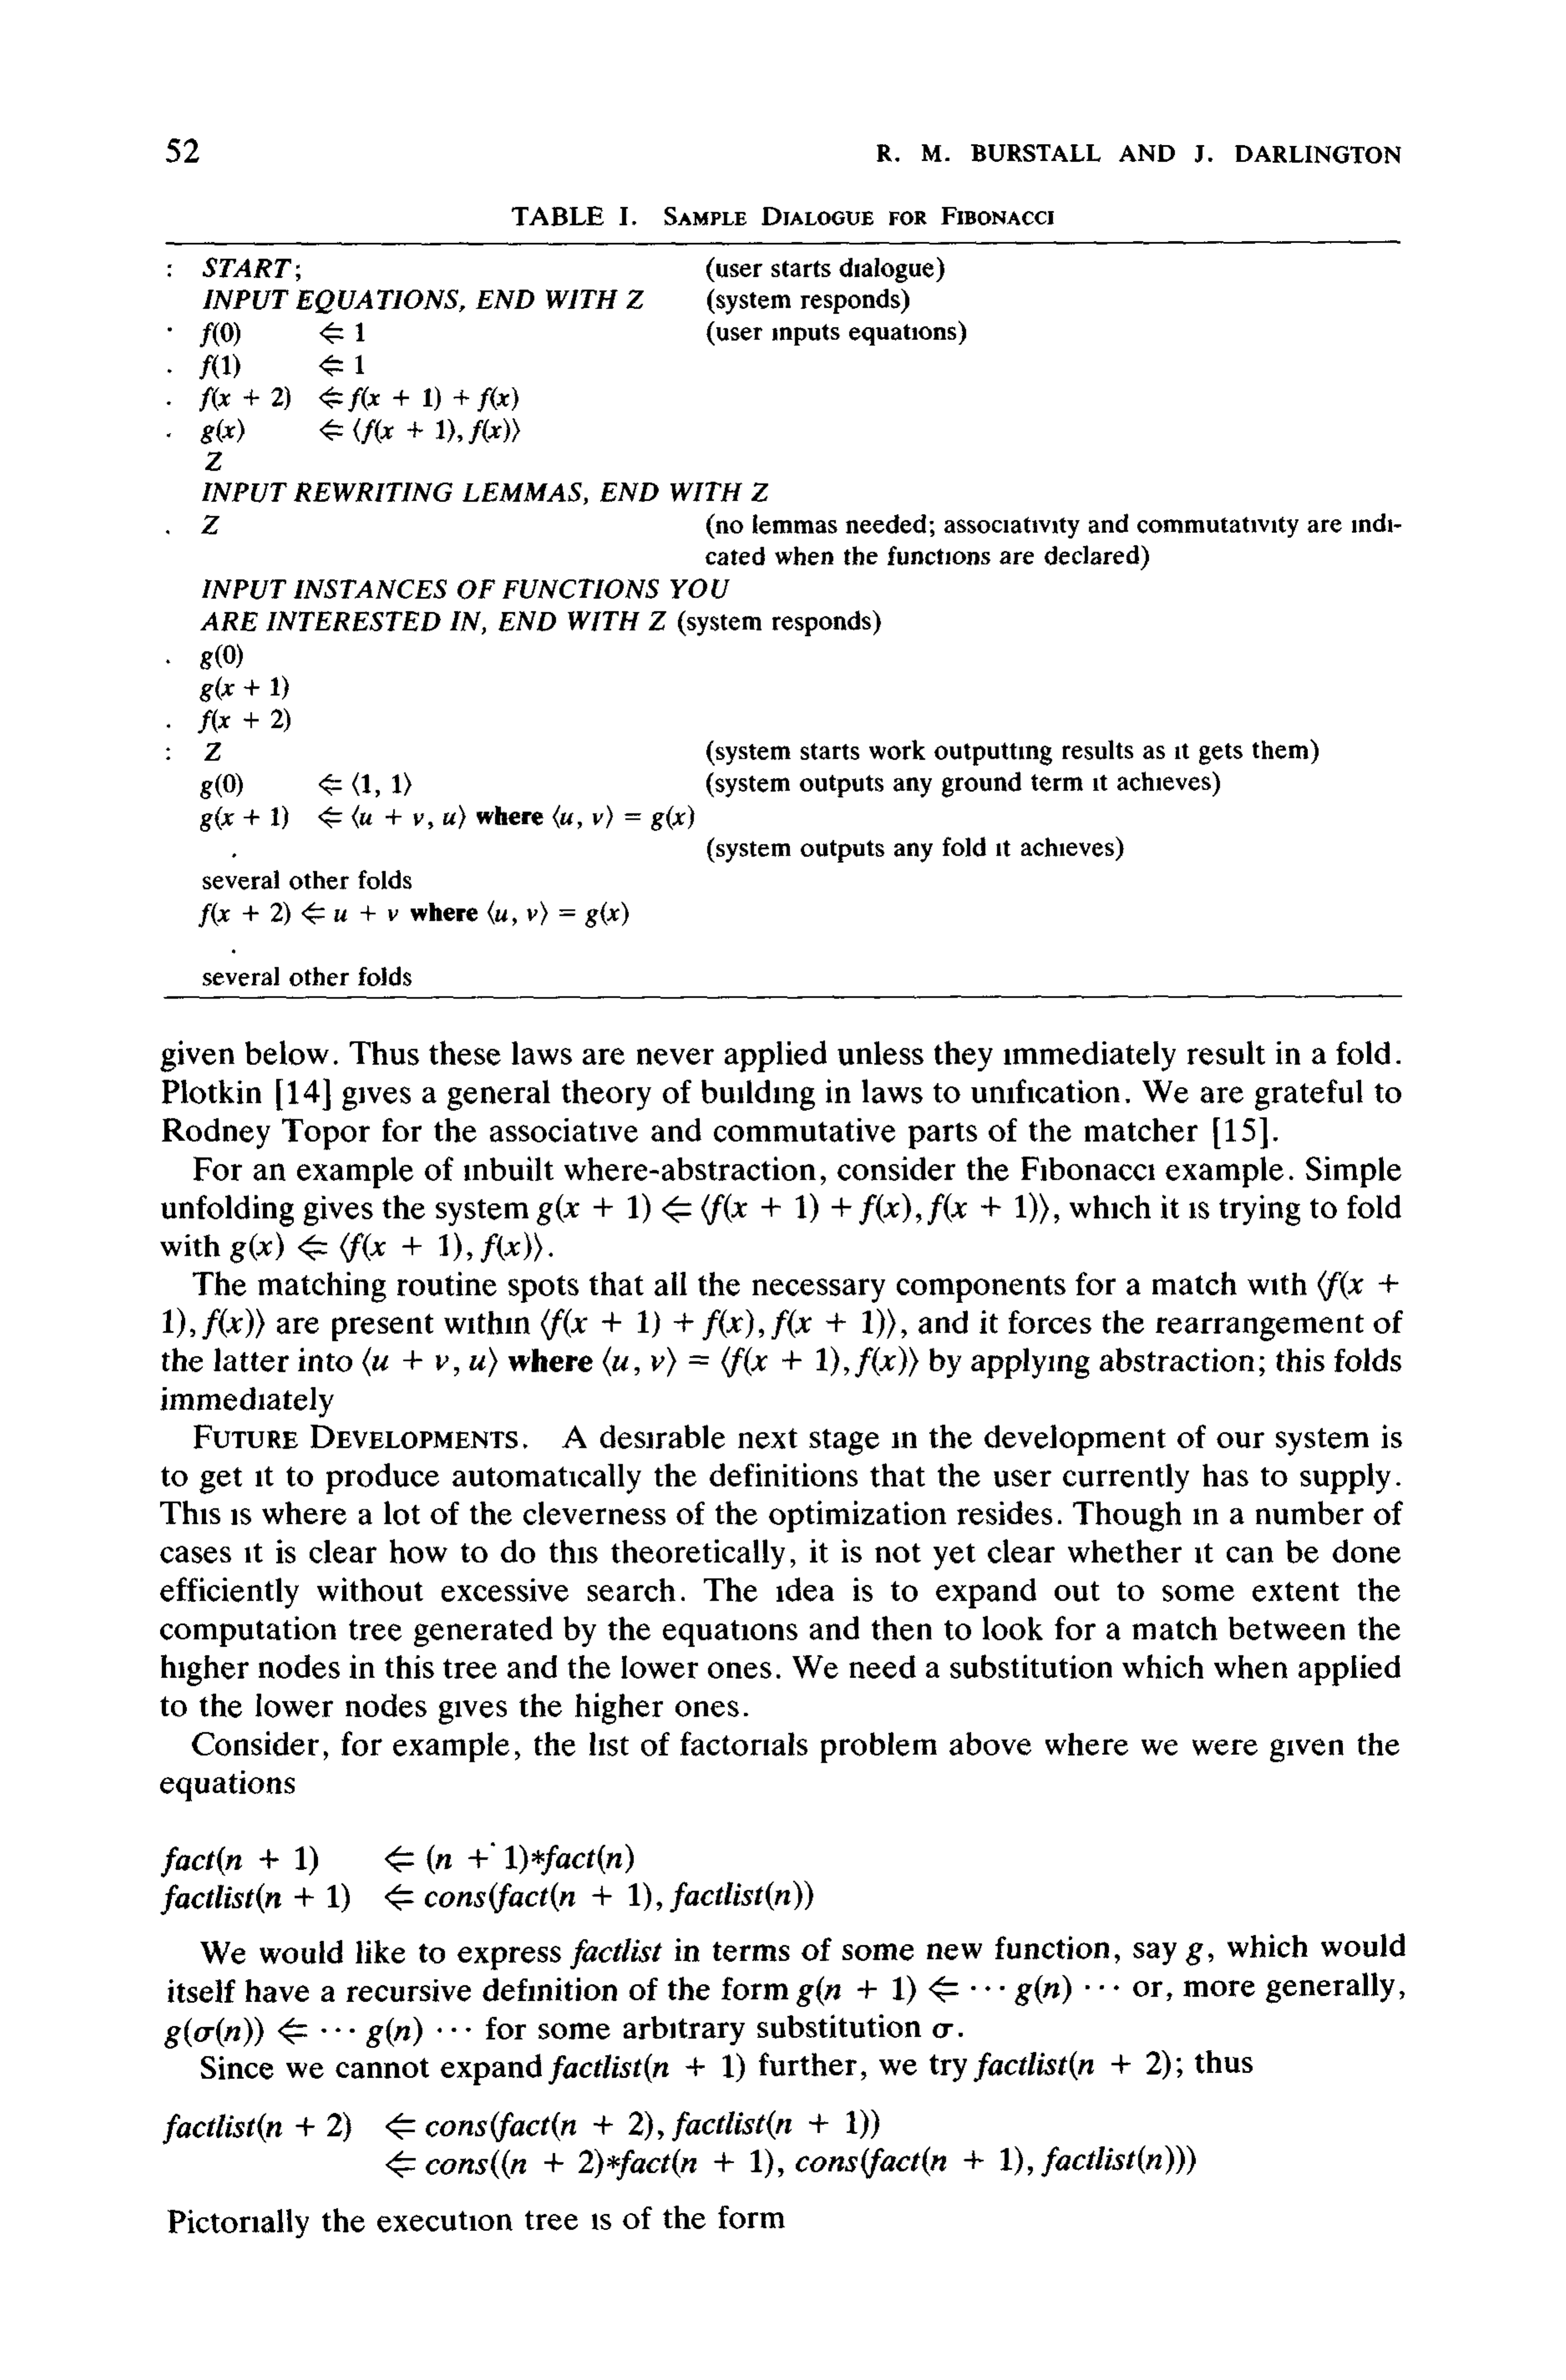maths: (386, 2146, 1195, 2181), (163, 2109, 879, 2144), (161, 1880, 813, 1915), (537, 1192, 1049, 1225), (797, 1975, 1119, 2006), (164, 2017, 470, 2048), (652, 1346, 919, 1379), (385, 1844, 634, 1875), (231, 1232, 472, 1263), (542, 1309, 764, 1340), (974, 2050, 1171, 2085), (549, 2050, 745, 2085), (201, 772, 412, 799), (318, 386, 519, 412), (320, 418, 521, 444), (199, 902, 398, 928), (161, 1845, 318, 1877), (771, 1309, 897, 1340), (570, 1938, 662, 1969), (362, 1347, 460, 1377), (318, 806, 433, 830), (526, 902, 629, 928), (592, 806, 694, 832), (197, 708, 290, 734), (1318, 1270, 1398, 1300), (199, 386, 290, 412), (199, 676, 288, 702), (201, 806, 288, 832), (481, 1232, 544, 1263), (203, 1309, 264, 1340), (603, 1346, 640, 1377), (201, 418, 245, 444), (199, 322, 241, 348), (201, 643, 243, 669), (320, 322, 365, 344), (318, 355, 364, 377), (199, 355, 241, 379), (468, 1347, 498, 1377), (488, 900, 517, 926), (552, 806, 582, 830), (163, 1307, 185, 1339), (444, 806, 467, 830), (1185, 1943, 1202, 1966), (201, 515, 220, 535), (933, 2022, 954, 2039), (626, 290, 643, 309), (752, 482, 769, 502), (648, 612, 666, 631), (220, 1501, 231, 1532), (204, 743, 222, 760), (206, 453, 222, 472)
